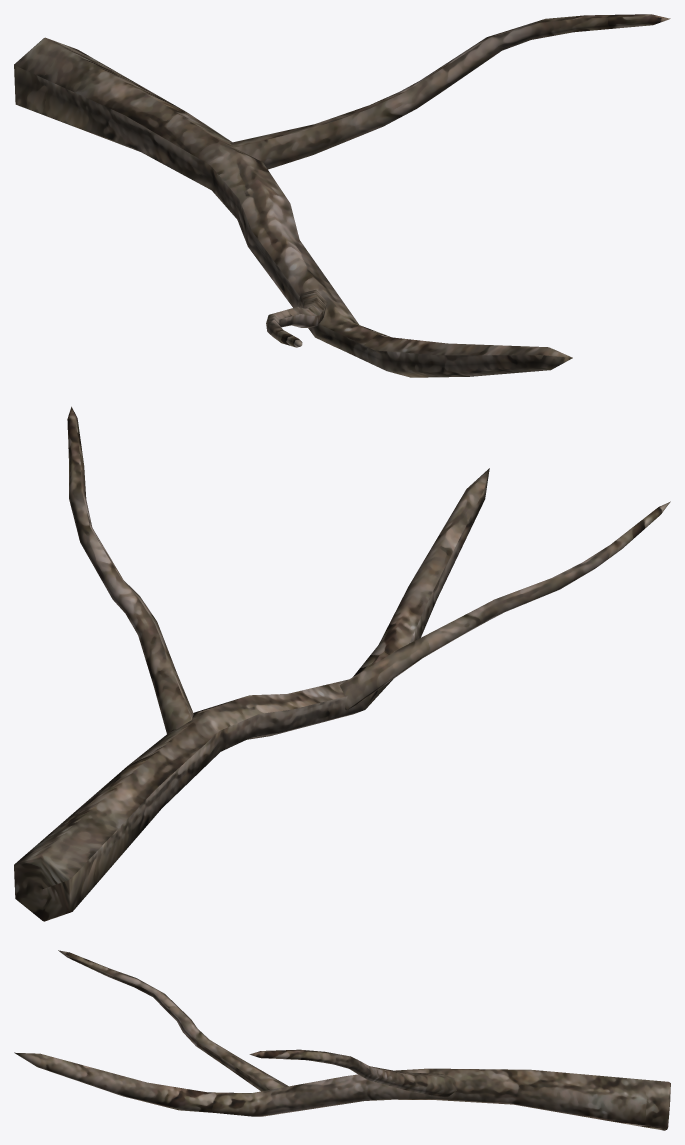
The model's file is SM_OakStickB_1.fbx.
The picture shows the model from 3 angles, top to bottom: view 1: azimuth 30°, elevation 25°; view 2: azimuth 150°, elevation 25°; view 3: azimuth 270°, elevation 25°; orthographic projection. The views are drawn at different scales.
Visible parts, largest first — view 1: BranchSmall_oak_12; view 2: BranchSmall_oak_12; view 3: BranchSmall_oak_12.
Boxes of the visible parts, left/top/right/bottom form: BranchSmall_oak_12: left=14, top=14, right=670, bottom=377; BranchSmall_oak_12: left=14, top=406, right=670, bottom=921; BranchSmall_oak_12: left=14, top=950, right=670, bottom=1130.
Bounding box in the file's own units: 1.26 × 0.6108 × 2.16.
